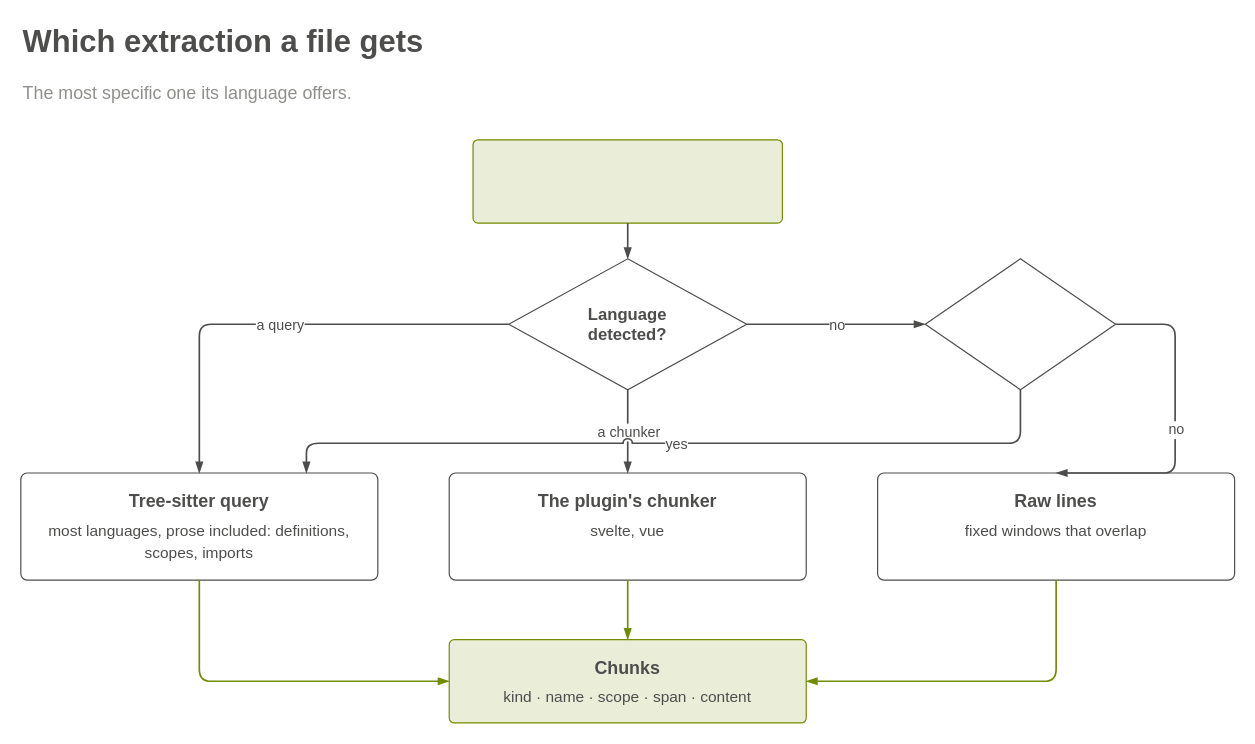
Some shapes in this 1255 by 744 pixel diagram are drawn without their labels. The shapes that lost their labels are listed below. From the top down, each one's box as (x1, y1, x2, y2) in pixels, then its label:
(472, 139, 782, 223): A file path and content
(924, 258, 1116, 390): Content sniffed?
